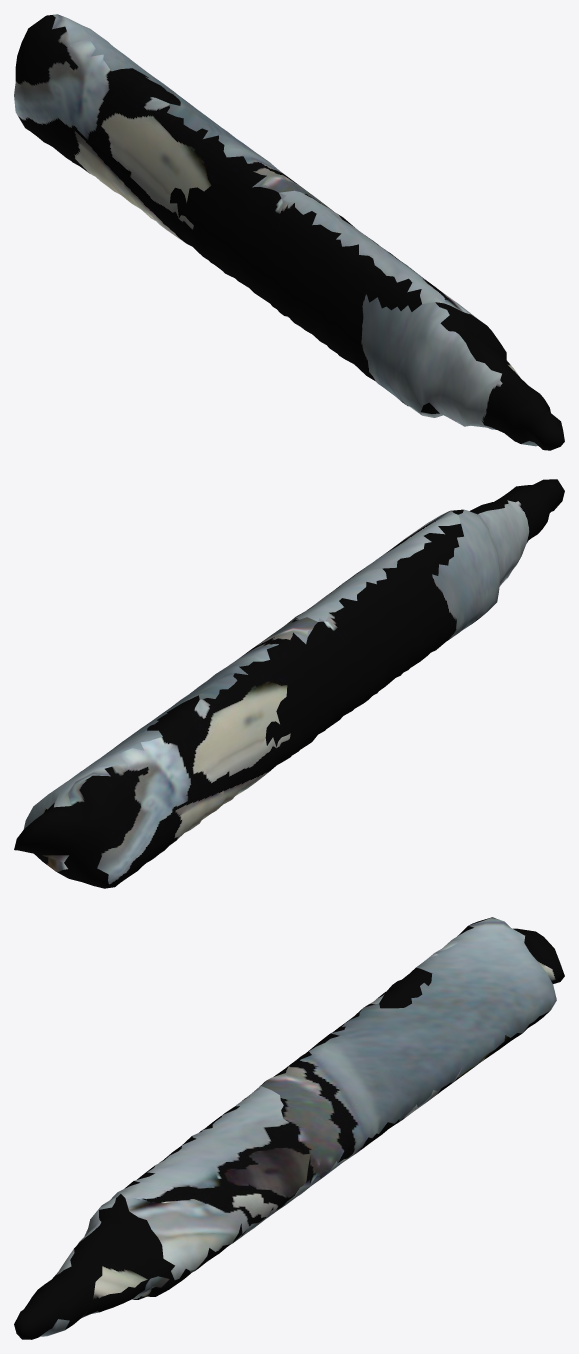
Rendered from scan_align.obj.
The picture shows the model from 3 angles, top to bottom: view 1: azimuth 30°, elevation 25°; view 2: azimuth 150°, elevation 25°; view 3: azimuth 330°, elevation 25°; orthographic projection. The views are drawn at different scales.
Bounding box in the file's own units: 0.0132 × 0.0138 × 0.1189.
